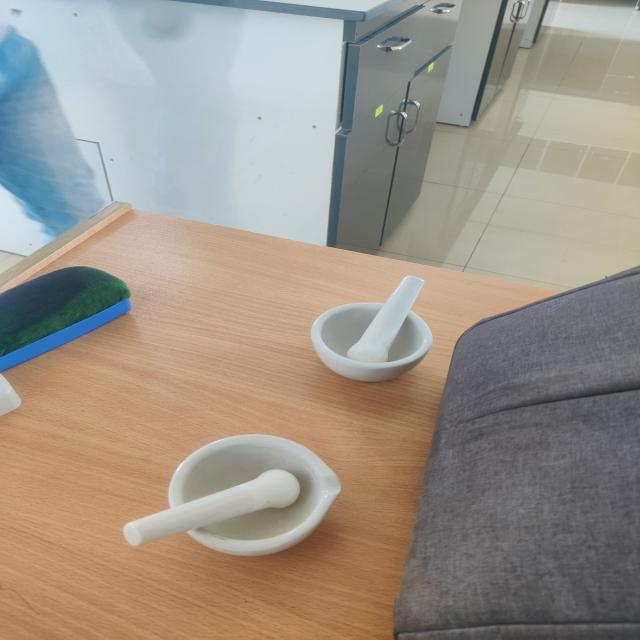Porcelain_Mortar Pestle: (95, 421, 386, 587), (299, 255, 453, 396)
